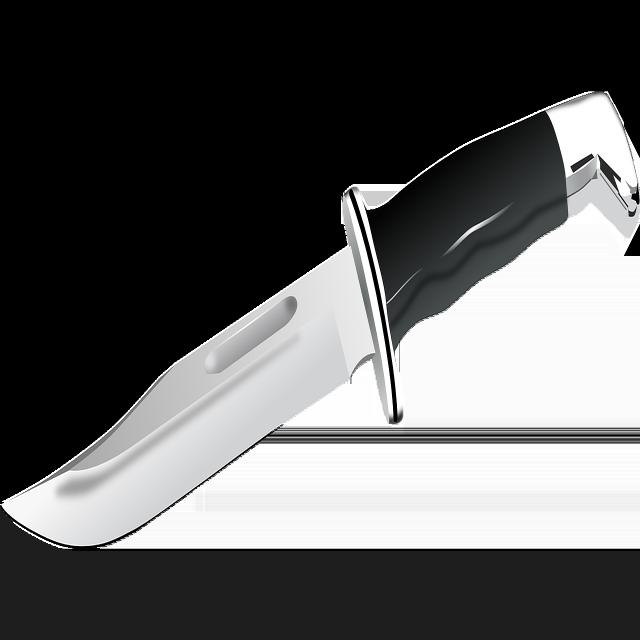Knife: (2, 93, 640, 547)
